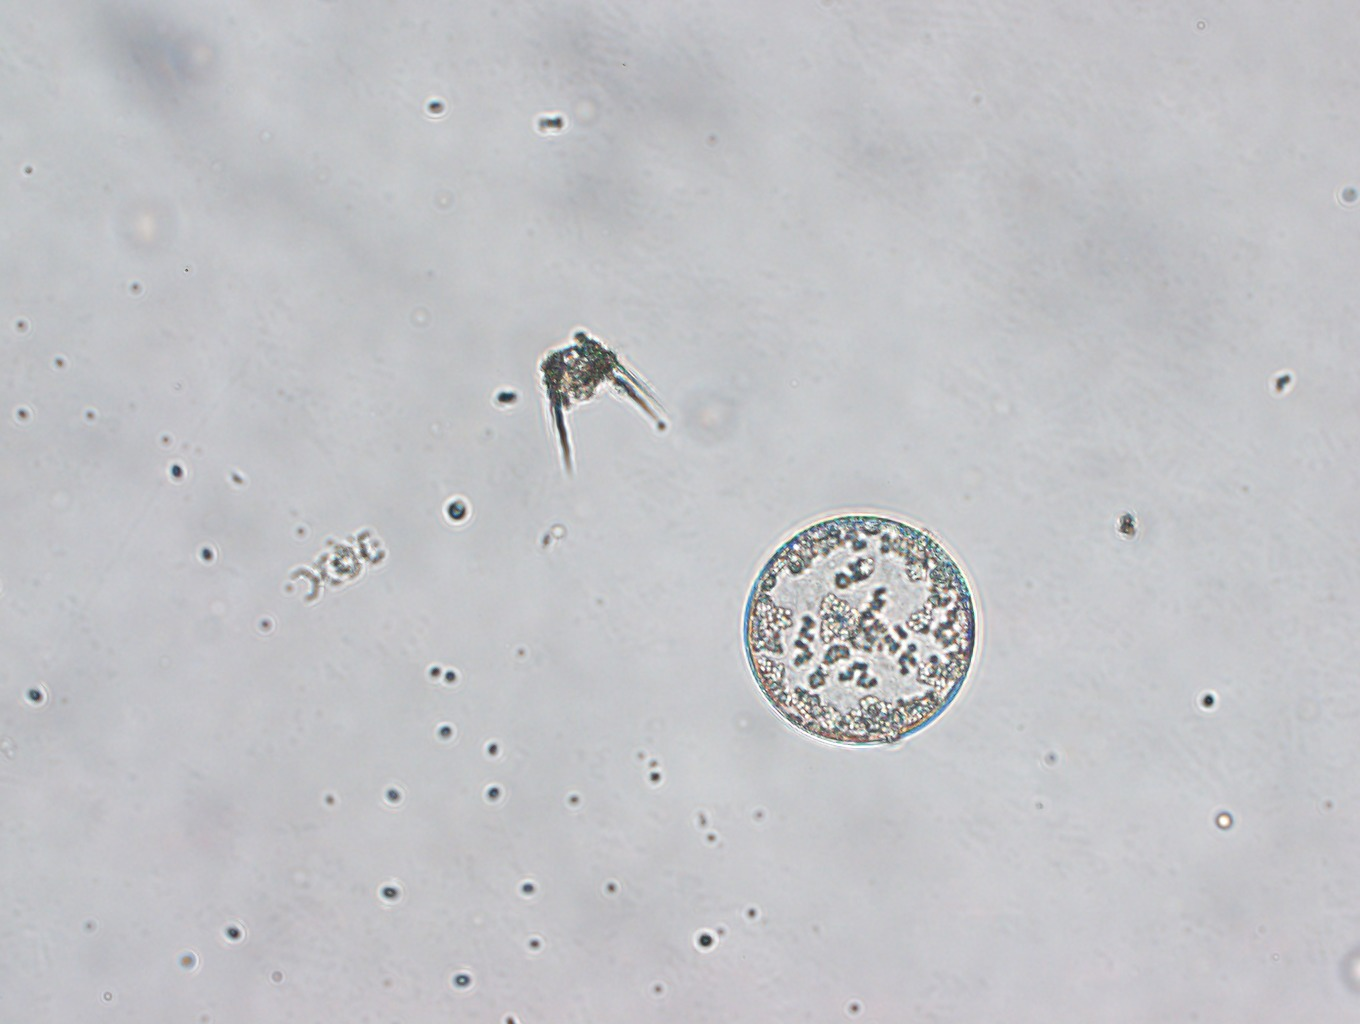coscinodiscus: (742, 516, 980, 746)
